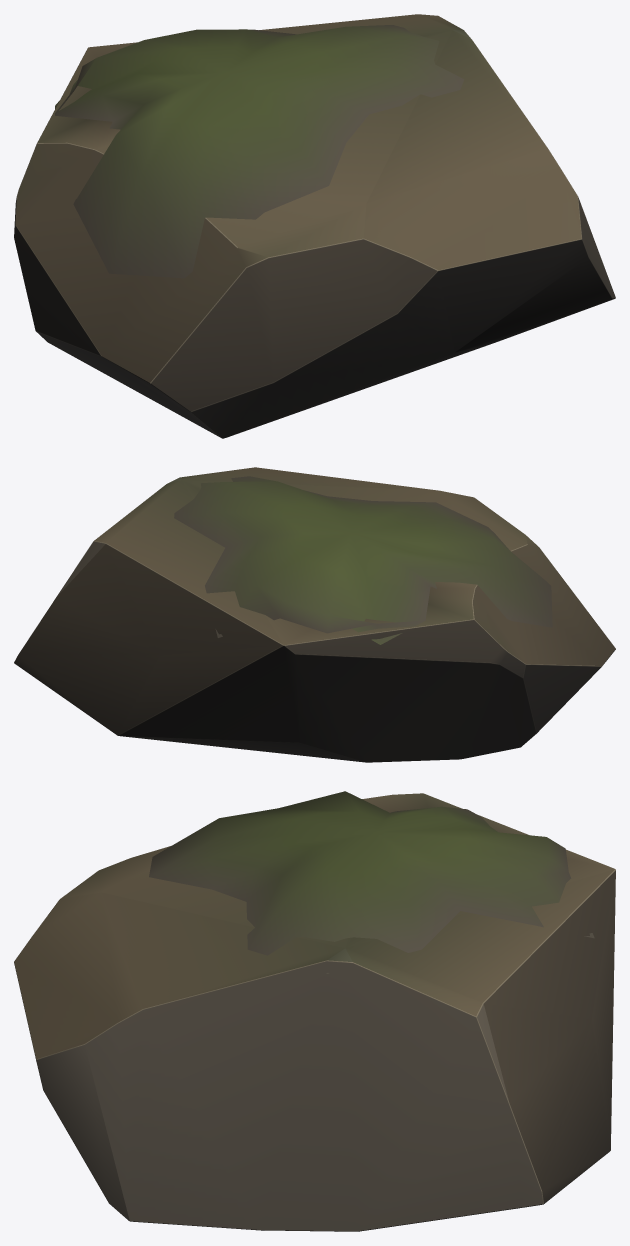
Rendered from boulder_block.glb.
3 views of the same model, one above another, from view 1: azimuth 30°, elevation 25°; view 2: azimuth 150°, elevation 25°; view 3: azimuth 270°, elevation 25° (orthographic). The views are drawn at different scales.
Visible parts, largest first — view 1: boulder_block; view 2: boulder_block; view 3: boulder_block.
Boxes of the visible parts, bbox=[...] form: boulder_block: bbox=[14, 14, 615, 438]; boulder_block: bbox=[14, 467, 615, 762]; boulder_block: bbox=[14, 791, 615, 1231].
Bounding box in the file's own units: 0.7265 × 0.3211 × 0.6398.
